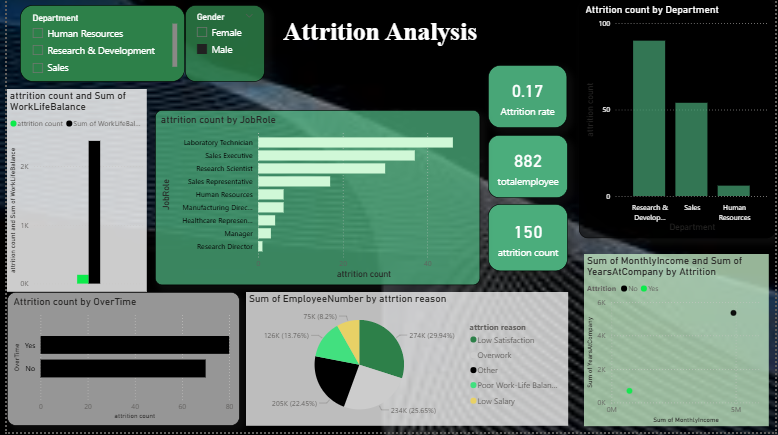

What the dashboard file says about the page in this screenshot:
{"tool":"powerbi","page":{"name":"Page 1","canvas":[1280,720],"ordinal":0},"visuals":[{"type":"card","fields":{"Values":["IBM DataSet.Attrition rate"]},"box":[801.7,108.3,131.7,105],"z":0},{"type":"card","fields":{"Values":["IBM DataSet.totalemployee"]},"box":[801.7,225,133.3,105],"z":1000},{"type":"card","fields":{"Values":["IBM DataSet.attrition count"]},"box":[801.7,340,133.3,111.7],"z":2000},{"type":"clusteredColumnChart","title":"Attrition count by Department","fields":{"Category":["IBM DataSet.Department"],"Y":["IBM DataSet.attrition count"]},"box":[953.3,0,326.7,396.7],"z":3000},{"type":"clusteredBarChart","fields":{"Category":["IBM DataSet.JobRole"],"Y":["IBM DataSet.attrition count"]},"box":[246.7,183.3,541.7,291.7],"z":4000},{"type":"clusteredBarChart","title":"Attrition count by OverTime","fields":{"Category":["IBM DataSet.OverTime"],"Y":["IBM DataSet.attrition count"]},"box":[0,486.7,388.3,223.3],"z":5000},{"type":"clusteredColumnChart","fields":{"Y":["IBM DataSet.attrition count","Sum(IBM DataSet.WorkLifeBalance)"]},"box":[0,148.3,233.3,338.3],"z":6000},{"type":"scatterChart","fields":{"X":["Sum(IBM DataSet.MonthlyIncome)"],"Y":["Sum(IBM DataSet.YearsAtCompany)"],"Series":["IBM DataSet.Attrition"]},"box":[961.7,423.3,308.3,286.7],"z":7000},{"type":"textbox","box":[455,23.3,346.7,100],"z":8000},{"type":"slicer","fields":{"Values":["IBM DataSet.Gender"]},"box":[296.7,8.3,133.3,128.3],"z":9000},{"type":"slicer","fields":{"Values":["IBM DataSet.Department"]},"box":[21.7,8.3,275,128.3],"z":10000},{"type":"pieChart","fields":{"Category":["IBM DataSet.attrtion reason"],"Y":["Sum(IBM DataSet.EmployeeNumber)"]},"box":[398.3,486.7,536.7,223.3],"z":11000}]}

Visuals, with their boxes in screenshot pixels (x1, y1, x2, y2), scaled from the page's 1280x720 canvas onto the 778x435 screenshot:
card - IBM DataSet.Attrition rate: 487,65,567,129
card - IBM DataSet.totalemployee: 487,136,568,199
card - IBM DataSet.attrition count: 487,205,568,273
"Attrition count by Department" clusteredColumnChart: 579,0,777,240
clusteredBarChart - IBM DataSet.JobRole x IBM DataSet.attrition count: 150,111,479,287
"Attrition count by OverTime" clusteredBarChart: 0,294,236,429
clusteredColumnChart - IBM DataSet.attrition count x Sum(IBM DataSet.WorkLifeBalance): 0,90,142,294
scatterChart - Sum(IBM DataSet.MonthlyIncome) x Sum(IBM DataSet.YearsAtCompany): 585,256,772,429
textbox: 277,14,487,74
slicer - IBM DataSet.Gender: 180,5,261,83
slicer - IBM DataSet.Department: 13,5,180,83
pieChart - IBM DataSet.attrtion reason x Sum(IBM DataSet.EmployeeNumber): 242,294,568,429
